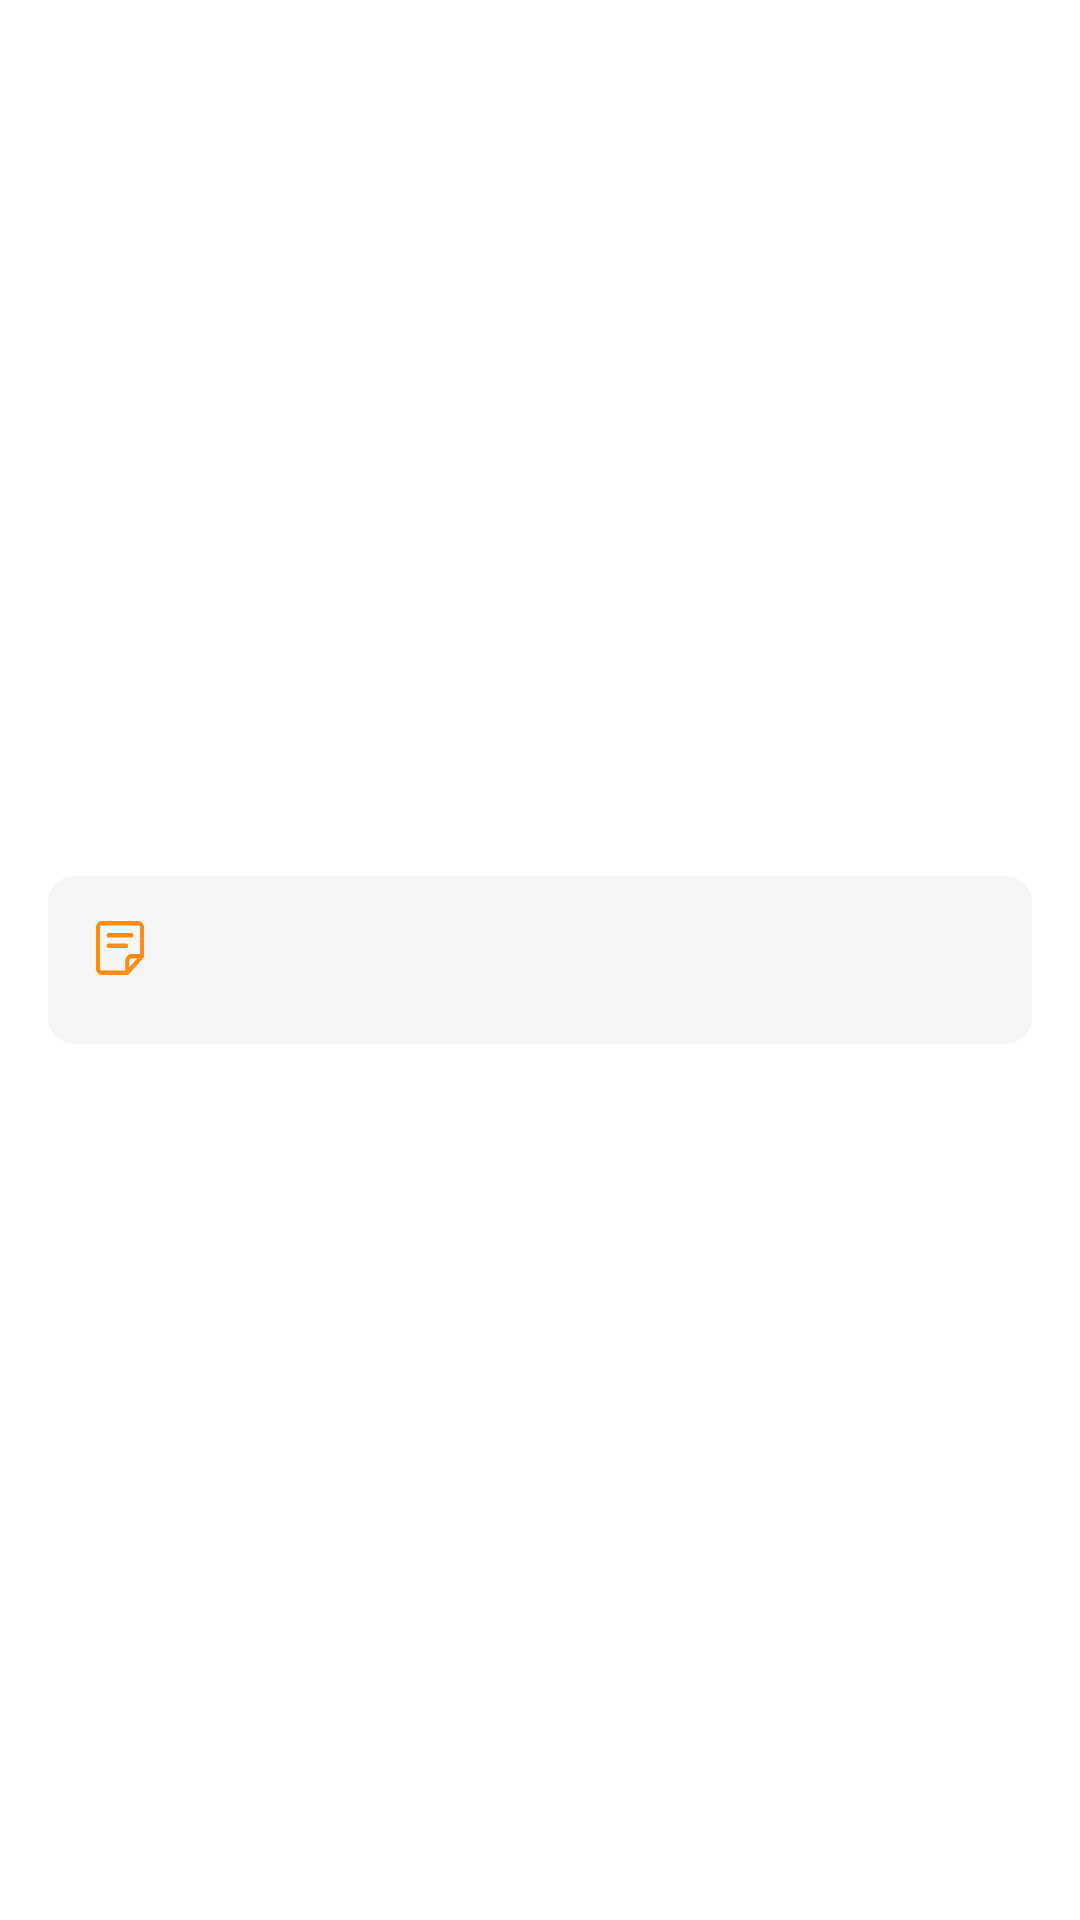

Named icons in this screenshot (1080w x 1920h) and their centers, point (x, y):
note: point (120, 948)
